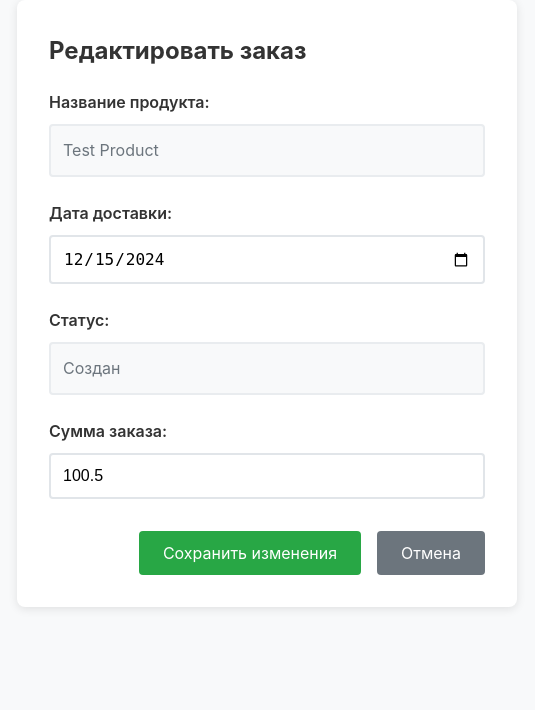
Scenario: OrderForm › Edit Mode › validates delivery date cannot be earlier than current order date
In the date field with test id "delivery-date-input": x=267, y=260 left=49, top=235, right=485, bottom=284, type "2024-12-10"
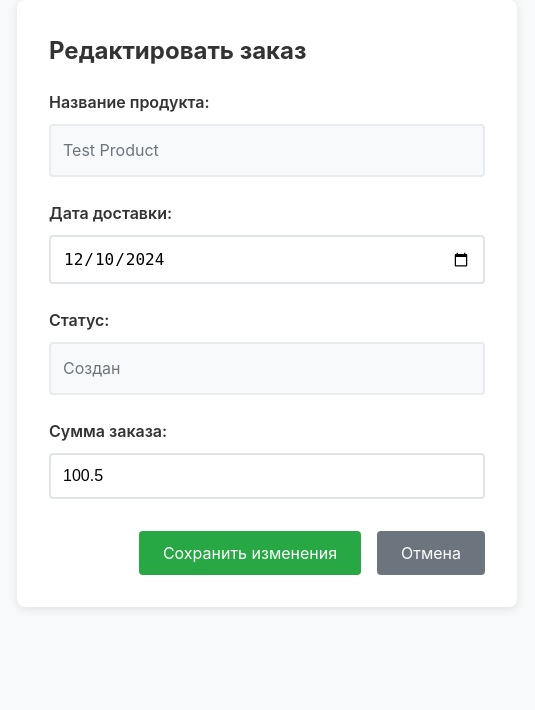
Click the button with test id "submit-btn": x=250, y=553 left=139, top=531, right=361, bottom=575
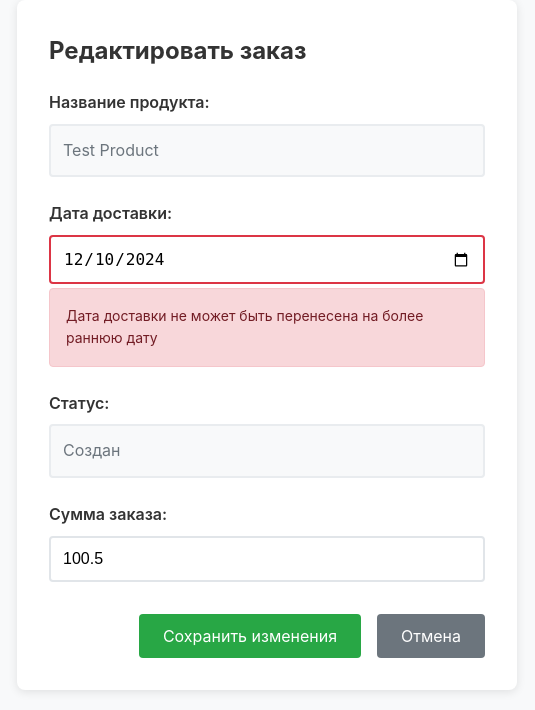
Now the text with test id "delivery-date-error" reads "Дата доставки не может быть перенесена на более раннюю дату", box left=66, top=307, right=423, bottom=346
